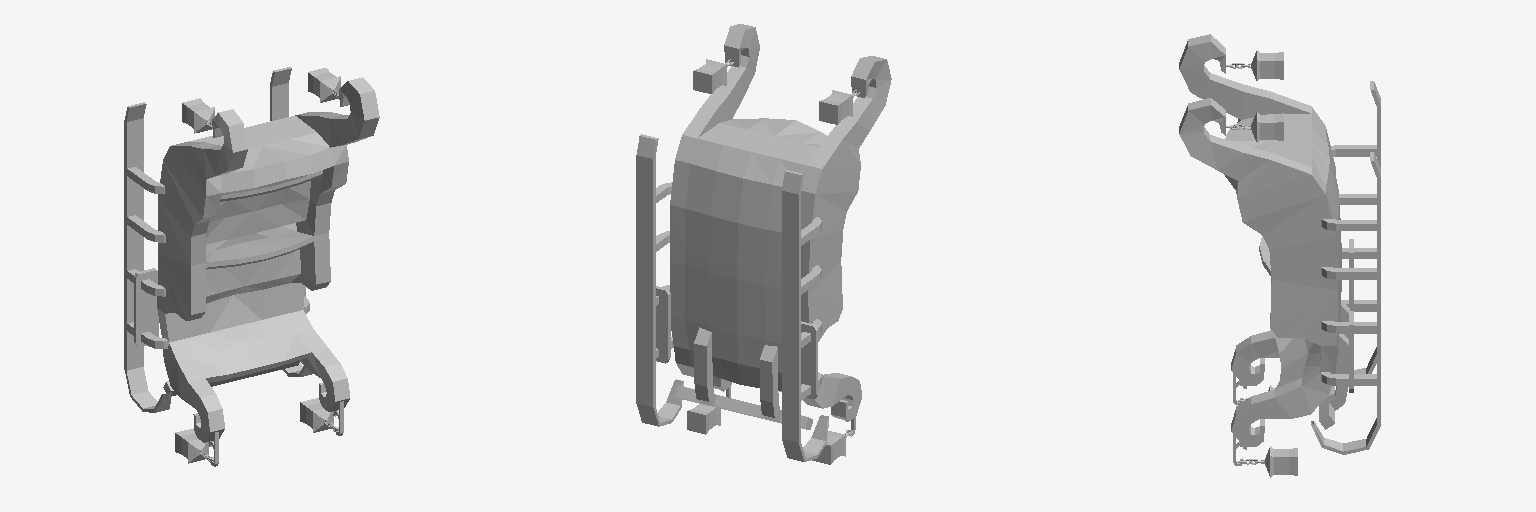
Rendered from trineo.obj.
3 views of the same model, side by side, from view 1: azimuth 30°, elevation 25°; view 2: azimuth 150°, elevation 25°; view 3: azimuth 270°, elevation 25° (orthographic).
Parts seen in each view (by area): view 1: sled; view 2: sled; view 3: sled.
Part boxes in pixels (x1,y1,x2,y2): sled: (124, 67, 379, 466); sled: (636, 24, 891, 464); sled: (1179, 34, 1380, 477).
Size of the model in its own units: 44.6 by 93.42 by 45.8.